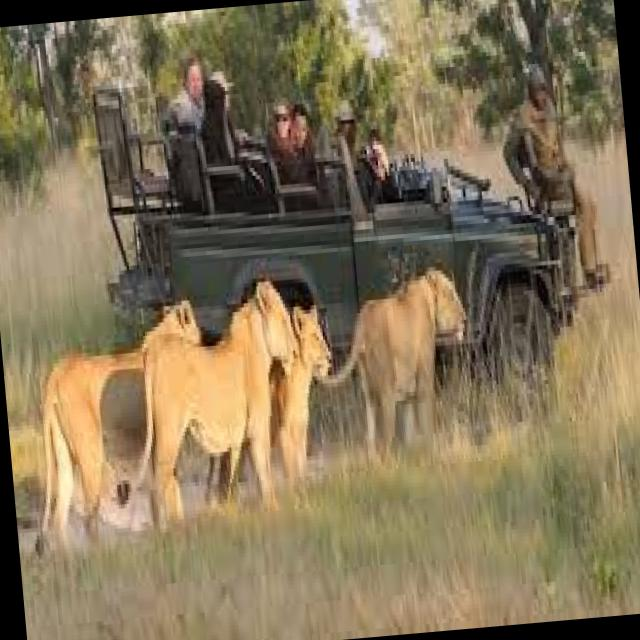lion: (15, 228, 516, 472)
ranger: (459, 34, 594, 257)
